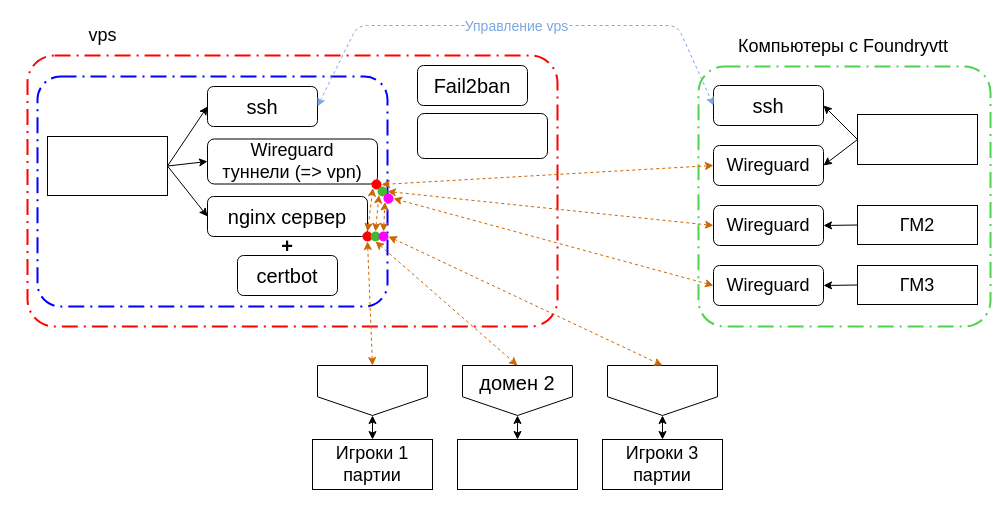
Some shapes in this 1008 by 507 pixel diagram are drawn without their labels. Here are the shapes that lost their labels. From the top down, the centre of each, then its label:
At pixel 482 135: "Файрвол ufw".
At pixel 917 139: "Владелец / ГМ1".
At pixel 107 166: "Сервер с debian 10".
At pixel 372 390: "домен 1".
At pixel 662 390: "домен 3".
At pixel 517 464: "Игроки 2 партии".
